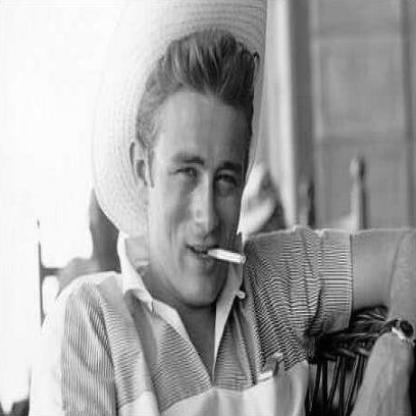cigarette: (206, 242, 249, 267)
person: (36, 41, 394, 415)
